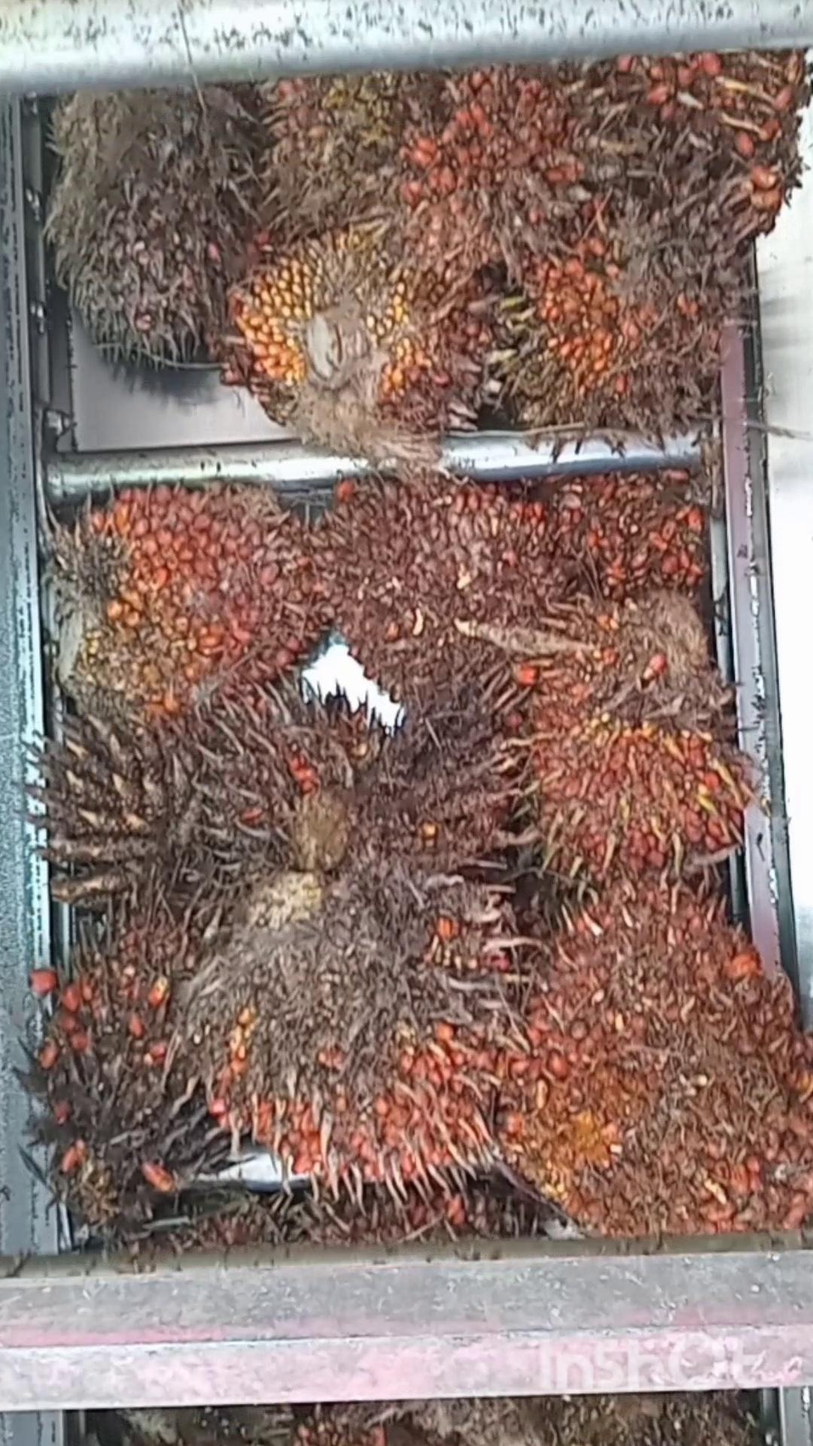Podrido: (42, 688, 286, 913)
Ripe: (185, 876, 558, 1196), (479, 881, 813, 1238), (518, 591, 788, 870), (230, 217, 513, 434), (71, 487, 352, 701), (49, 932, 240, 1216), (323, 489, 545, 704), (385, 70, 637, 247), (522, 227, 715, 419), (282, 706, 506, 871), (547, 484, 705, 594)
Verde: (66, 94, 282, 369)
